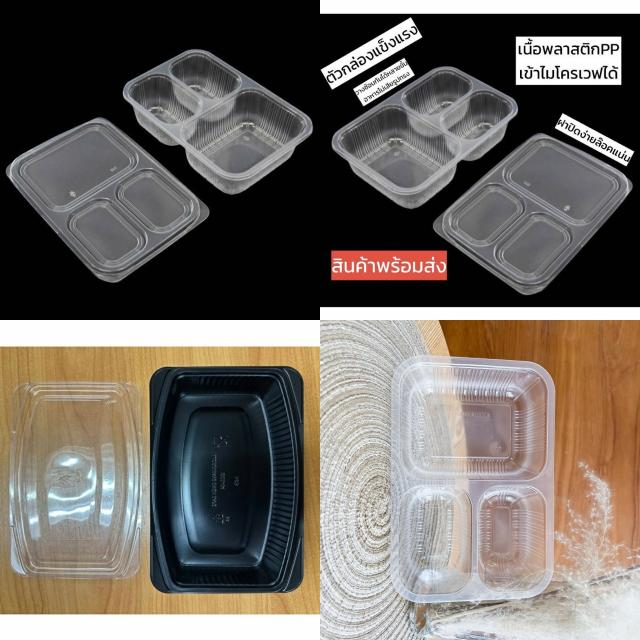Single-Use-Plastic: (391, 356, 554, 604), (150, 368, 302, 591), (6, 118, 209, 282), (435, 135, 630, 294), (122, 50, 312, 194), (332, 68, 518, 208), (10, 382, 141, 578)
